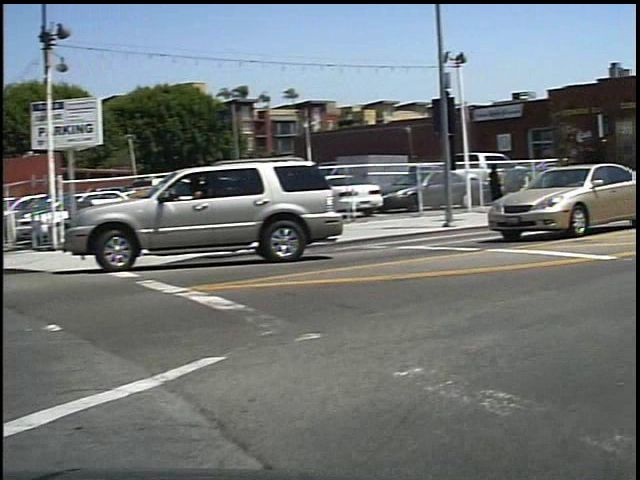person: (494, 160, 519, 217)
